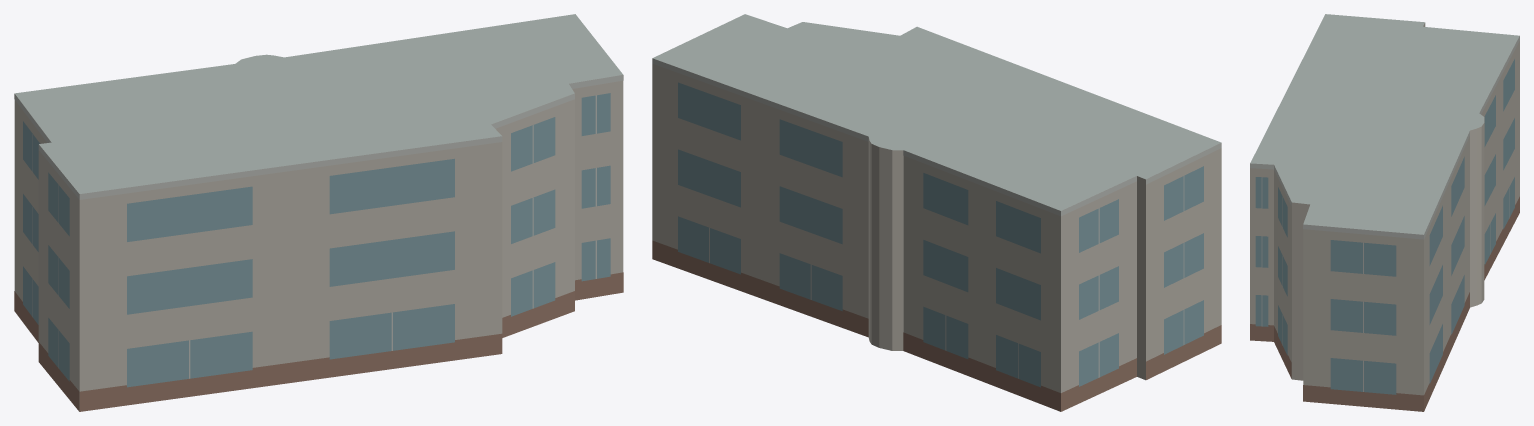
The model's file is survey-upis-32582107.glb.
3 renders of one model, left to right at view 1: azimuth 30°, elevation 25°; view 2: azimuth 150°, elevation 25°; view 3: azimuth 270°, elevation 25°, orthographic. The views are drawn at different scales.
Parts seen in each view (by area): view 1: survey-upis-32582107.tmp; view 2: survey-upis-32582107.tmp; view 3: survey-upis-32582107.tmp.
Boxes of the visible parts, x1,y1,x2,y2 form: survey-upis-32582107.tmp: (14,14,623,411); survey-upis-32582107.tmp: (652,14,1221,411); survey-upis-32582107.tmp: (1250,14,1519,411).
Size of the model in its own units: 24.49 by 9.15 by 12.64.
